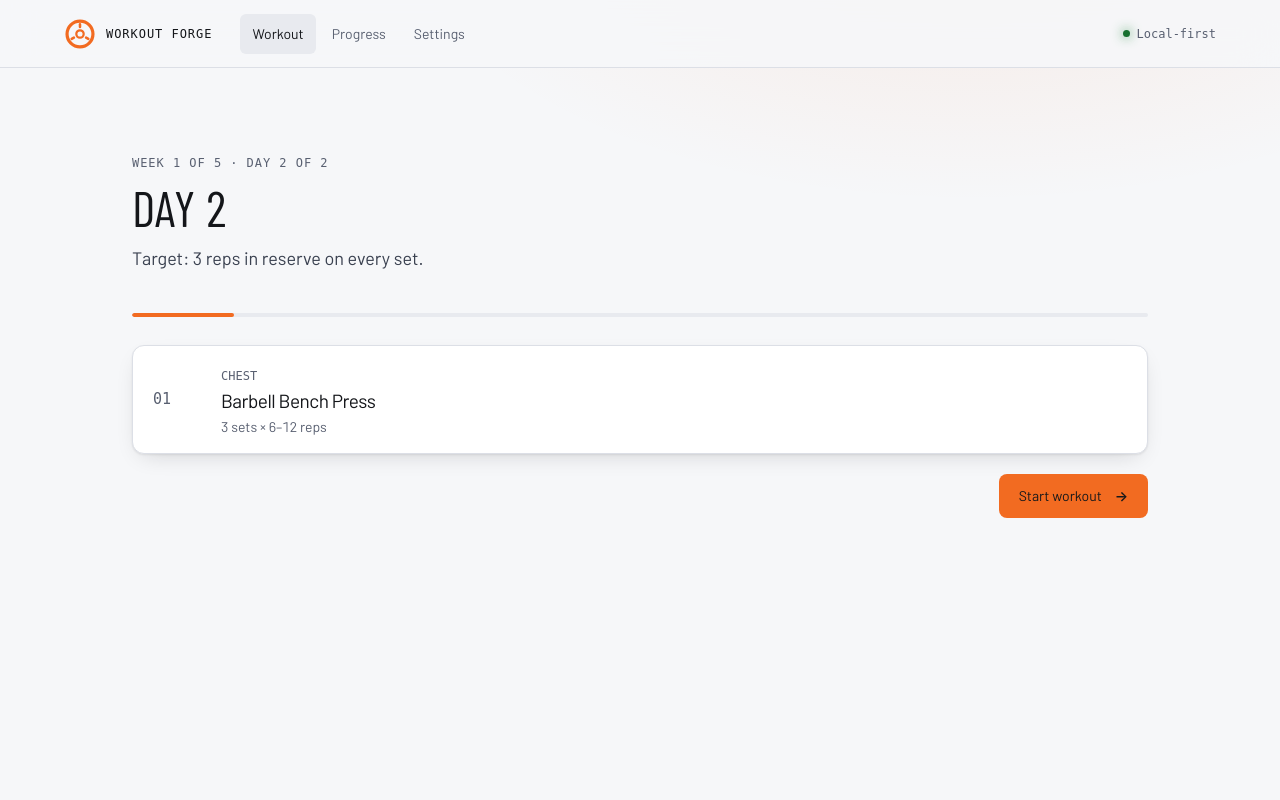
Scenario: weekly report on Today › is not shown on Today when last week had no workouts, but Progress still shows the zeros
Expected: the element "last week" is not shown
Click the button "Progress". click: point(359, 34)
box: [320,14,398,54]
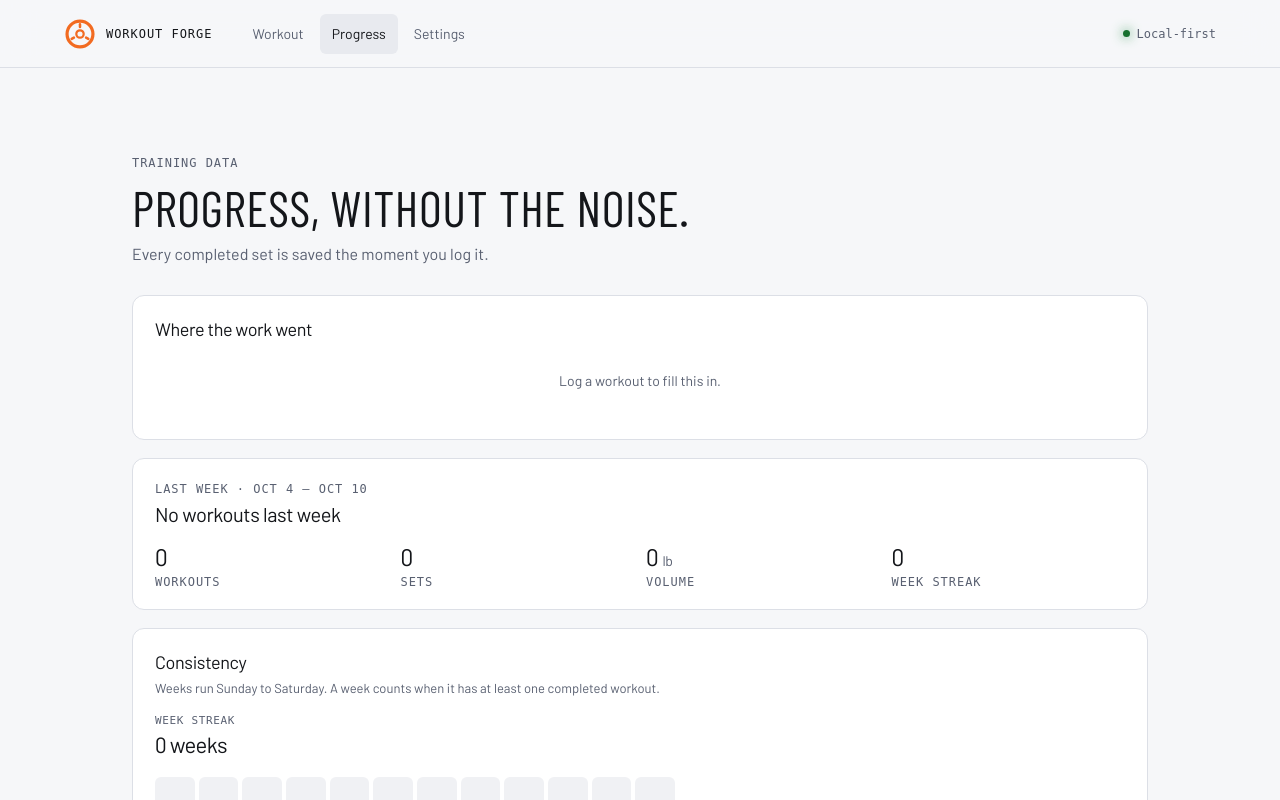
Expected: the element "No workouts last week" is shown, [132,458,1148,610]
